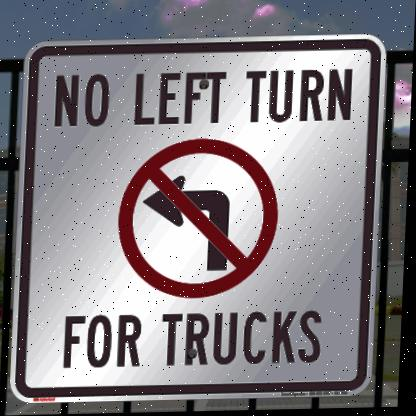No left turn: (115, 134, 286, 306)
